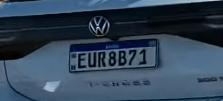Placa_mercosul_carro: (69, 39, 158, 74)
